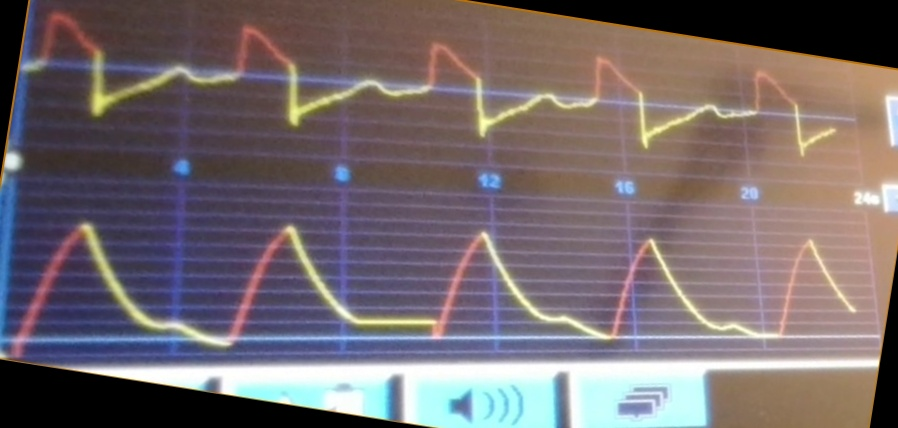Ineffective_effort Flow: (31, 4, 830, 158)
Ineffective_effort Volume: (9, 215, 861, 356)
